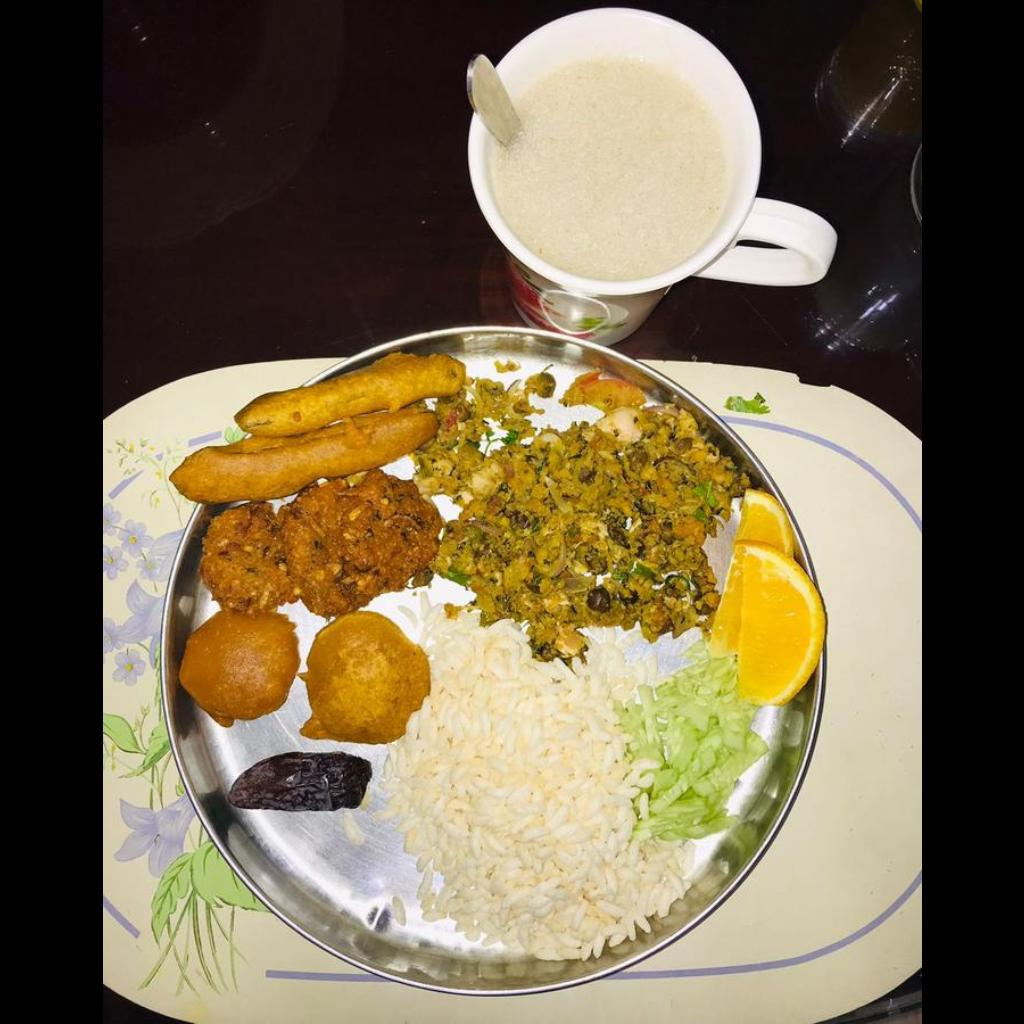beguni: (168, 352, 463, 493)
chola: (436, 402, 740, 643)
chop-alu: (184, 610, 429, 740)
dates: (230, 752, 373, 813)
juice: (501, 62, 717, 271)
orange: (712, 496, 820, 698)
peyaju: (206, 473, 434, 609)
puffed-rice: (397, 631, 710, 974)
salad: (627, 668, 759, 828)
